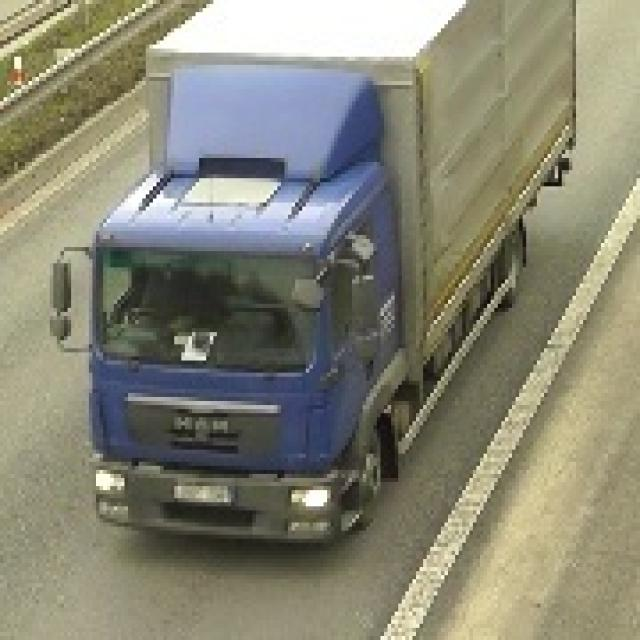truck: (46, 0, 576, 539)
